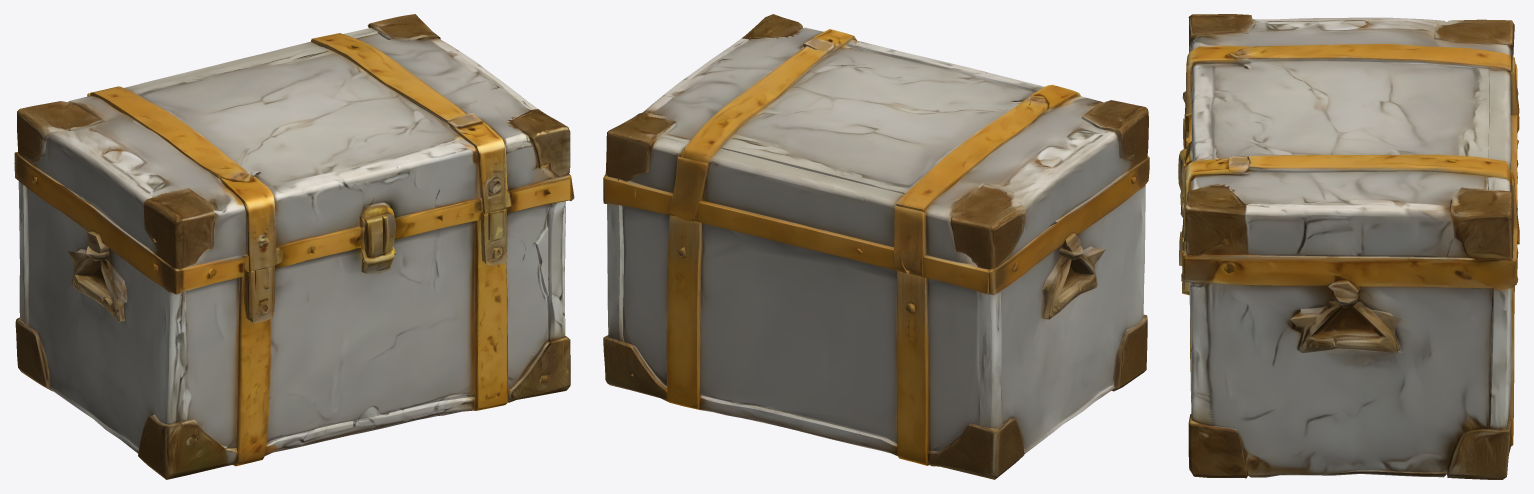
File: cargo_case_a.glb
The picture shows the model from 3 angles, left to right: view 1: azimuth 30°, elevation 25°; view 2: azimuth 150°, elevation 25°; view 3: azimuth 270°, elevation 25°; orthographic projection. The views are drawn at different scales.
Parts seen in each view (by area): view 1: model; view 2: model; view 3: model.
Part boxes in pixels (bbox=[...]): model: bbox=[14, 14, 574, 479]; model: bbox=[603, 14, 1149, 479]; model: bbox=[1178, 14, 1519, 479].
Size of the model in its own units: 1.89 by 1.21 by 1.33.
1 material, 1 textured.
